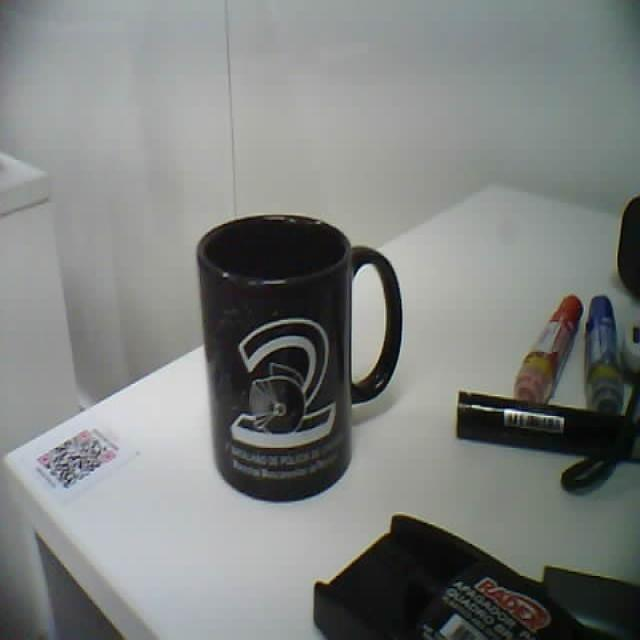caneca: (197, 216, 401, 500)
